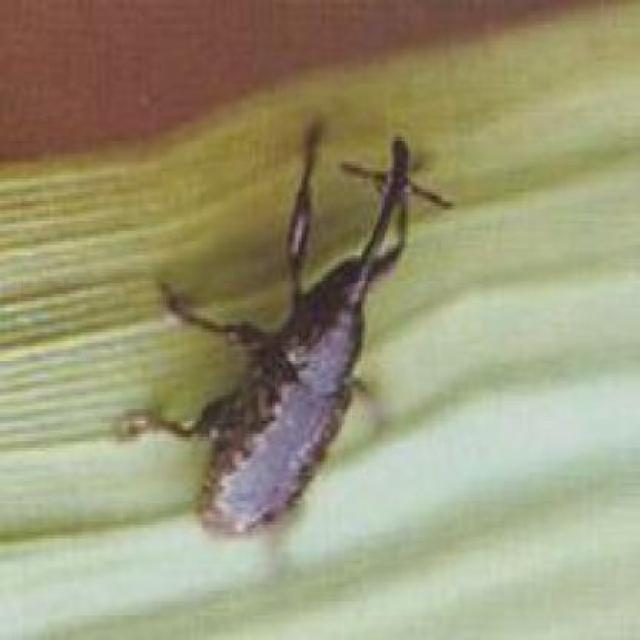rice-bug: (152, 136, 452, 549)
